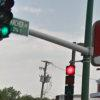Traffic light: (57, 54, 92, 100)
